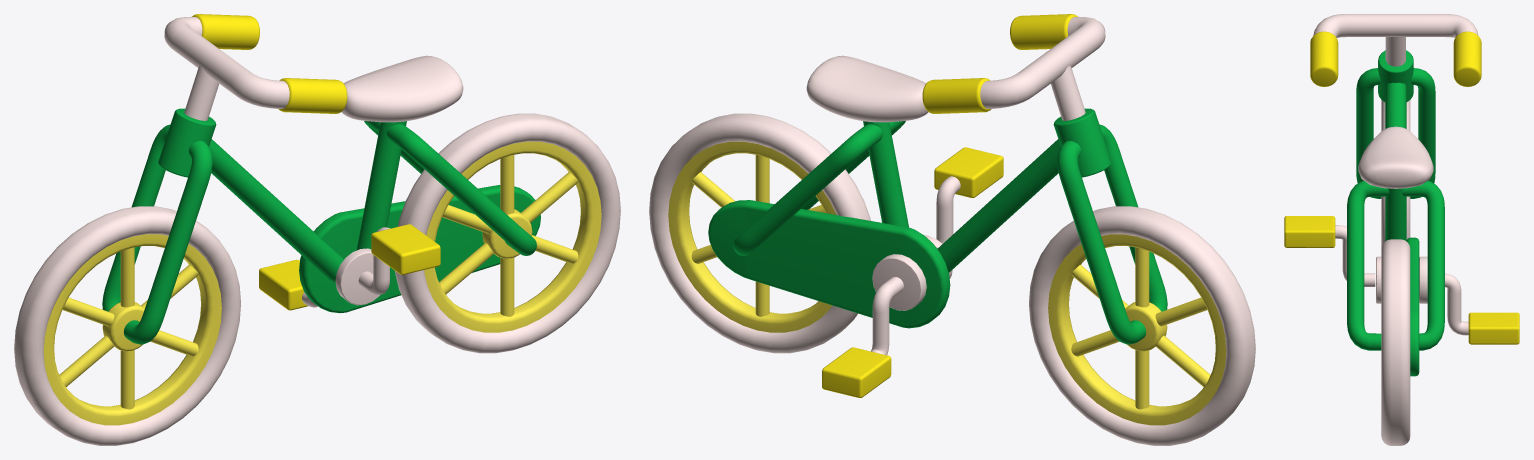
Rendered from Town_19_Bicycle_2.glb.
3 renders of one model, left to right at view 1: azimuth 30°, elevation 25°; view 2: azimuth 150°, elevation 25°; view 3: azimuth 270°, elevation 25°, orthographic. The views are drawn at different scales.
Visible parts, largest first — view 1: Town_19_Bicycle_2; view 2: Town_19_Bicycle_2; view 3: Town_19_Bicycle_2.
Boxes of the visible parts, x1,y1,x2,y2 form: Town_19_Bicycle_2: (14,14,620,445); Town_19_Bicycle_2: (649,14,1255,445); Town_19_Bicycle_2: (1284,14,1519,445).
Bounding box in the file's own units: 2.12 × 1.25 × 0.8828.
Materials: 1 (1 with a texture image).
